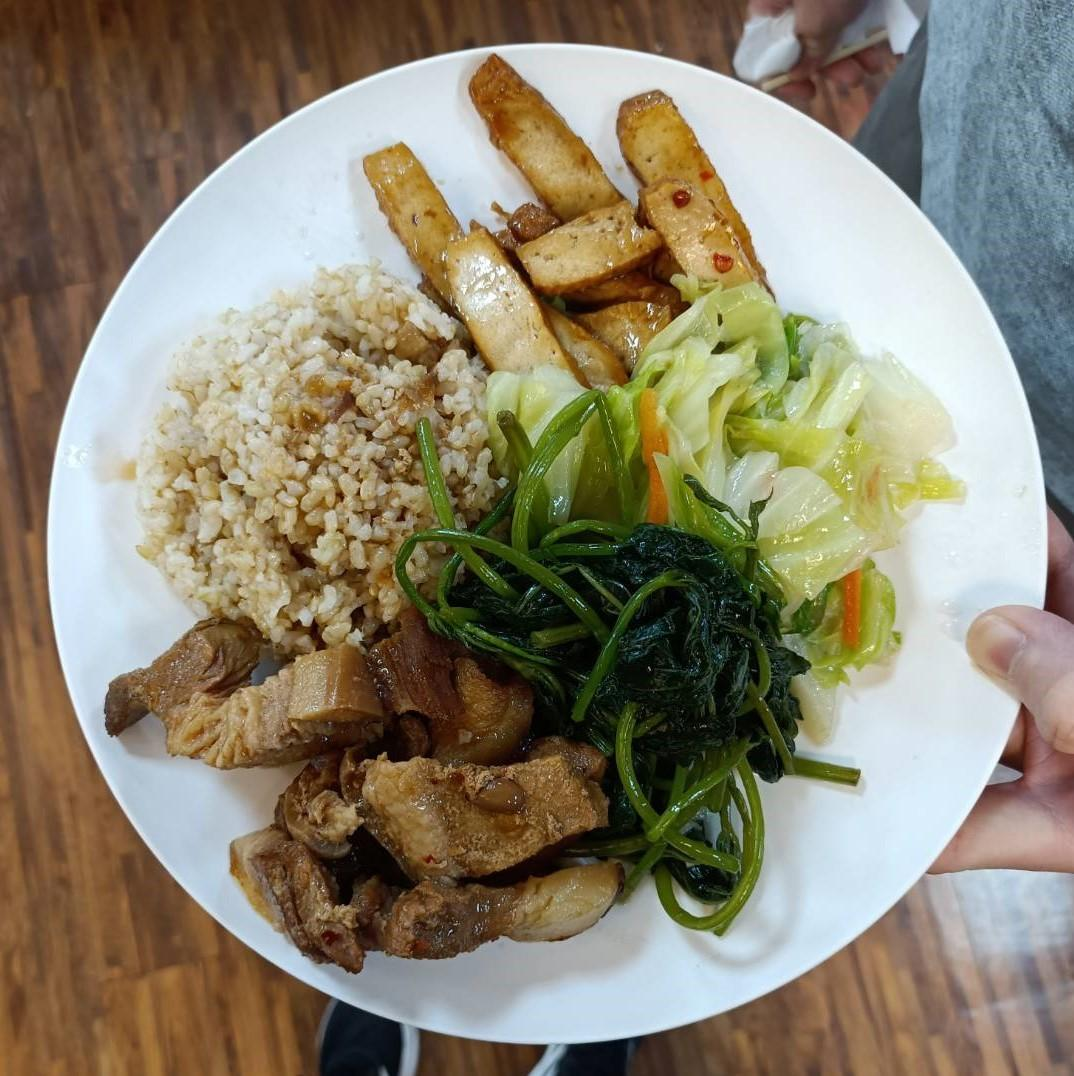big fried chicken leg: (31, 36, 1053, 1040)
box: (143, 278, 501, 640)
braised fish fillet: (423, 476, 805, 926), (345, 50, 779, 378), (649, 291, 946, 682)
braised pork: (101, 608, 629, 970)
